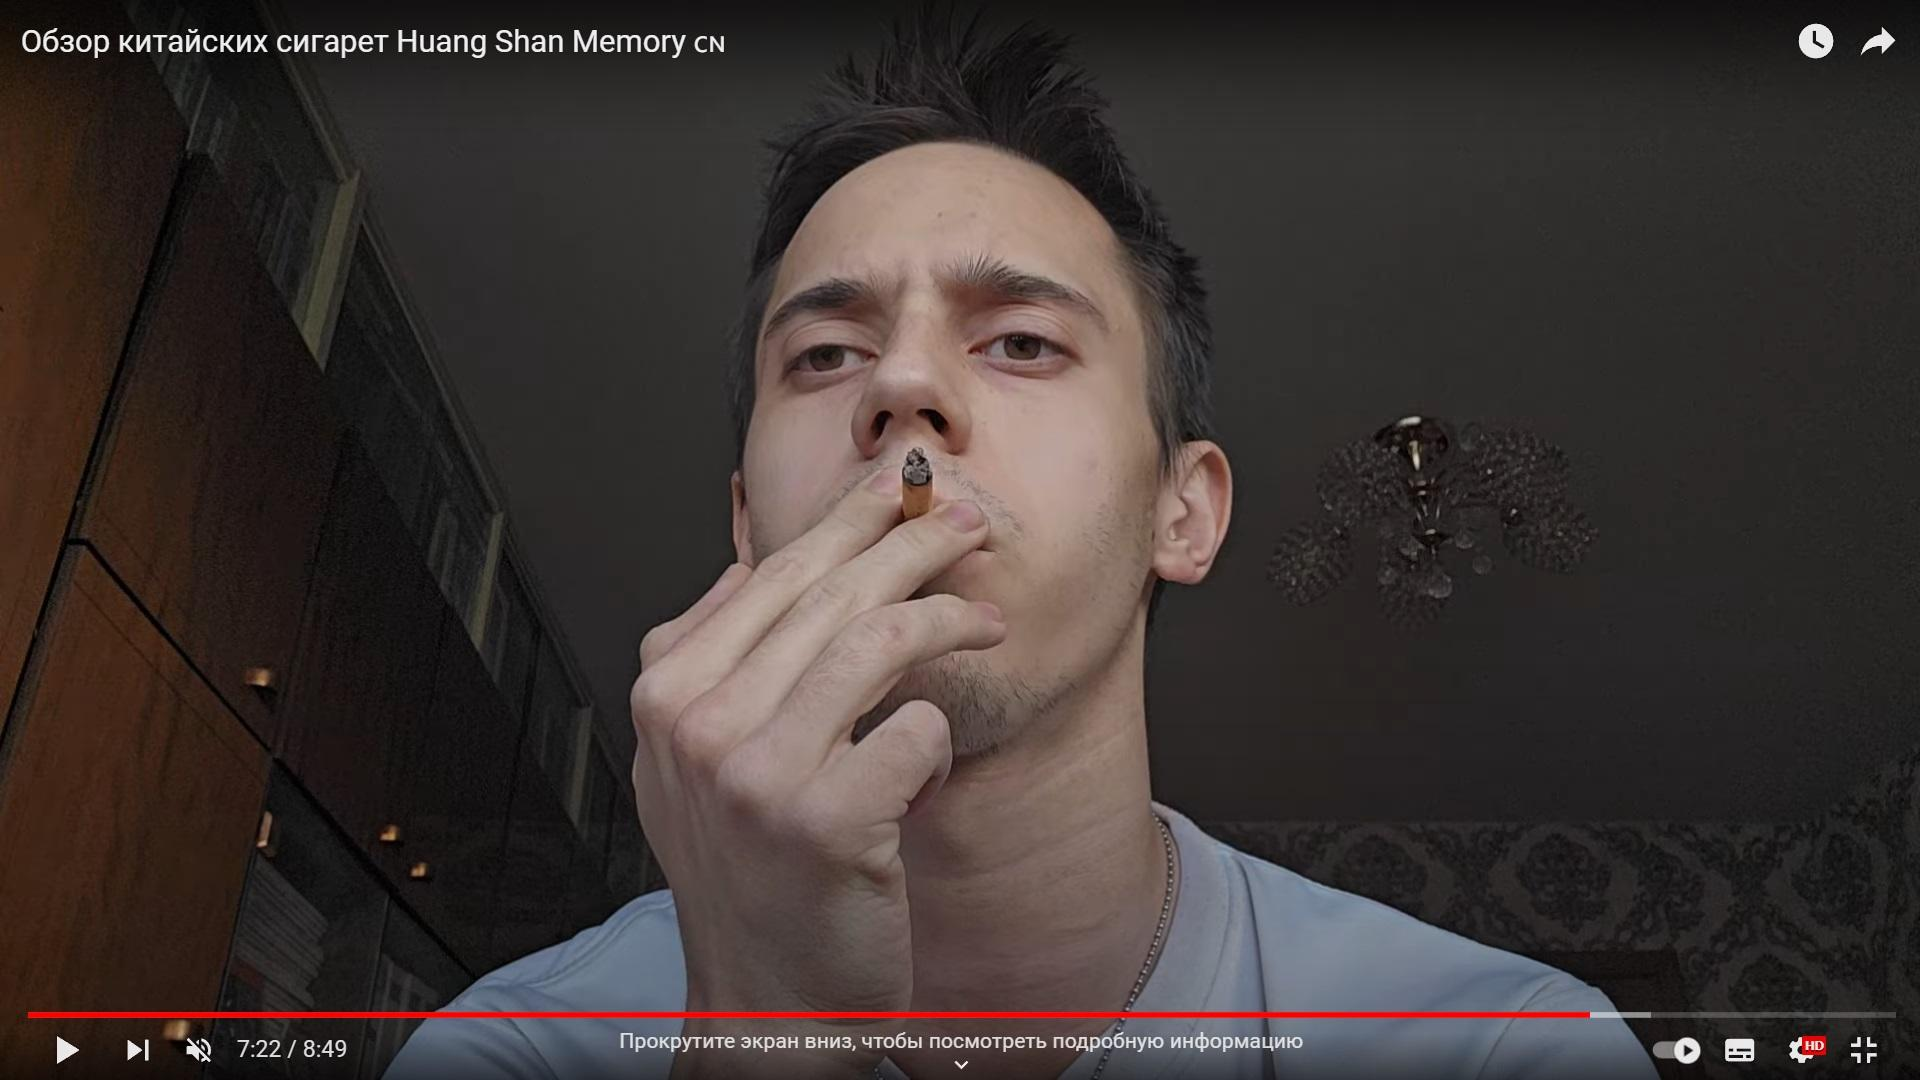cigarette: (902, 447, 934, 522)
